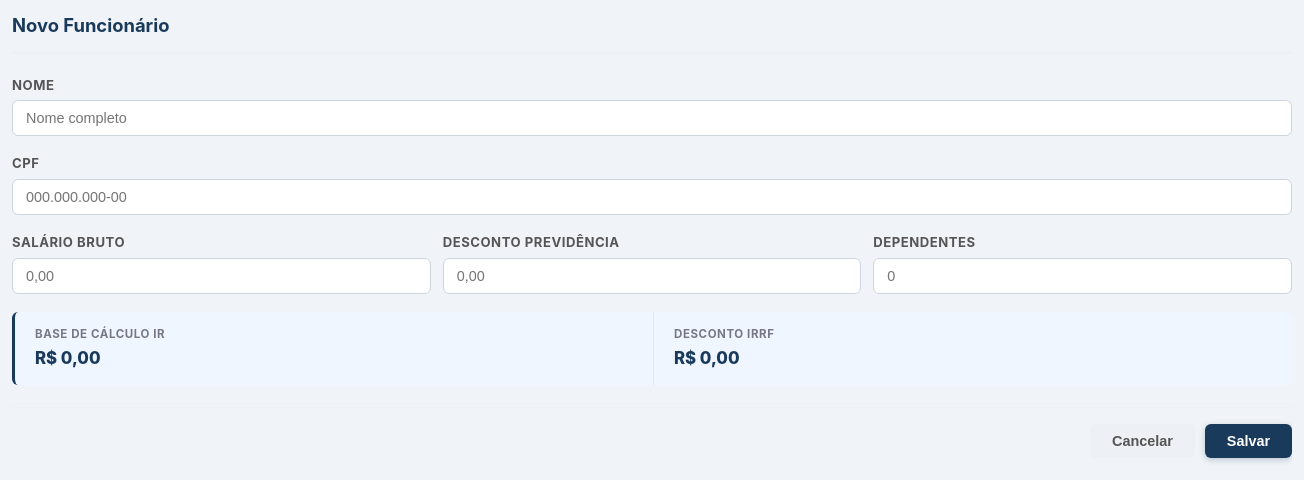
Test: EmployeeForm › aplica máscara no CPF enquanto o usuário digita
The image size is (1304, 480).
Type "12345678900" into the field with placeholder "000.000.000-00". click: coordinates (652, 197)
box: top-left (12, 179), bottom-right (1292, 215)
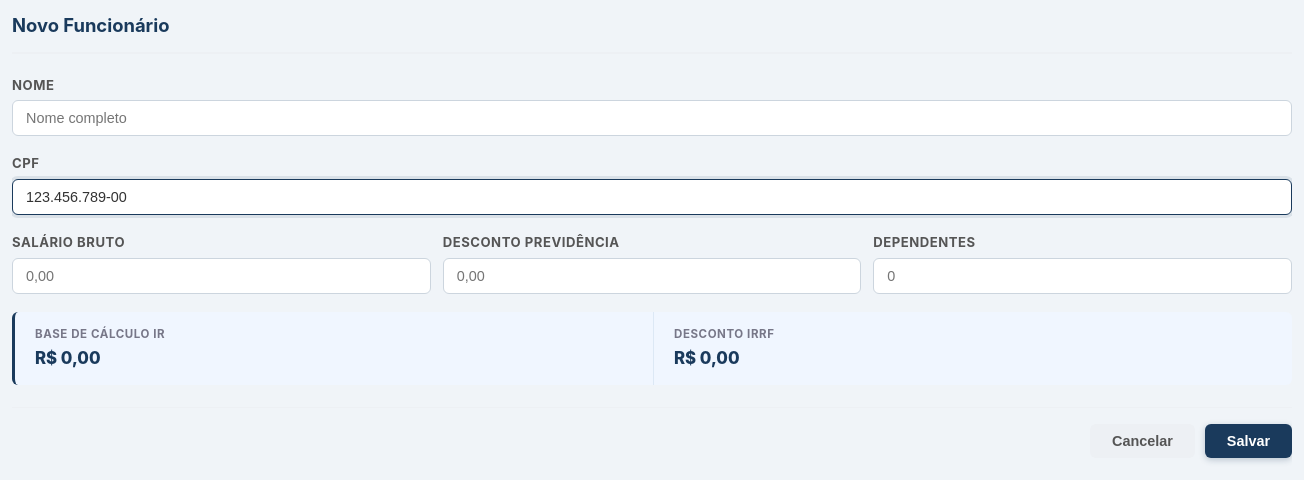
Result: the field with placeholder "000.000.000-00" holds "123.456.789-00" at top-left (12, 179), bottom-right (1292, 215)
